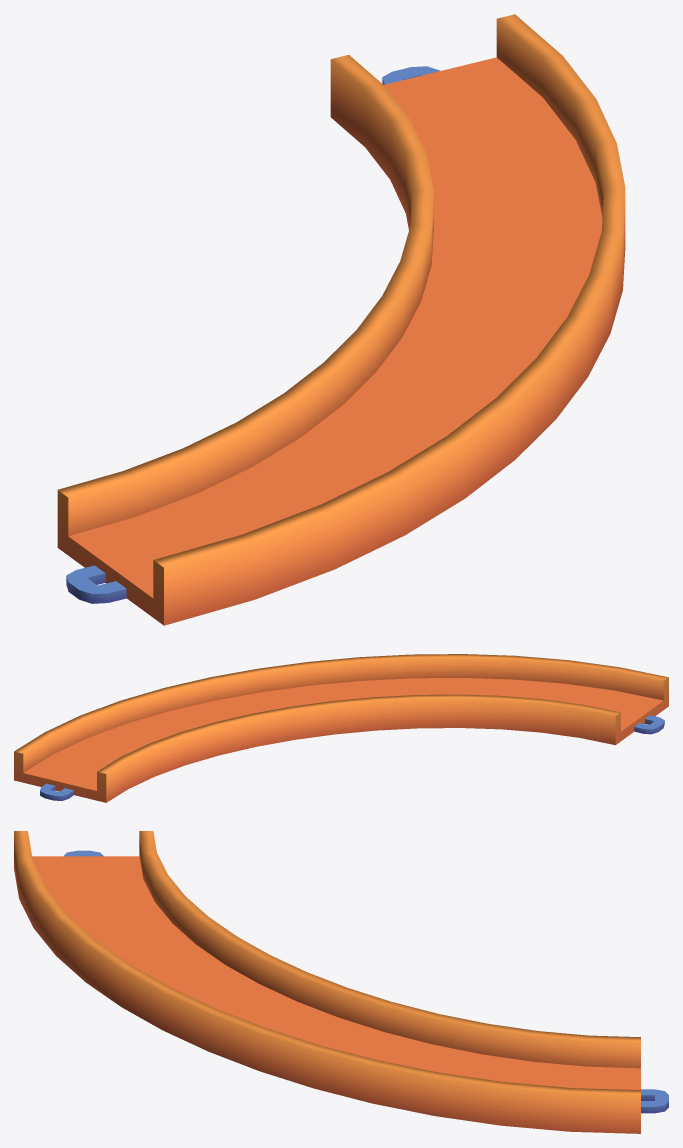
File: track-narrow-corner-large.glb
The picture shows the model from 3 angles, top to bottom: view 1: azimuth 30°, elevation 25°; view 2: azimuth 150°, elevation 25°; view 3: azimuth 270°, elevation 25°; orthographic projection. The views are drawn at different scales.
Parts seen in each view (by area): view 1: track-narrow-corner-large; view 2: track-narrow-corner-large; view 3: track-narrow-corner-large.
Boxes of the visible parts, bbox=[...] form: track-narrow-corner-large: bbox=[57, 14, 625, 625]; track-narrow-corner-large: bbox=[14, 654, 668, 802]; track-narrow-corner-large: bbox=[14, 831, 668, 1133].
Bounding box in the file's own units: 14.1 × 0.9 × 14.1.
1 material, 1 textured.
